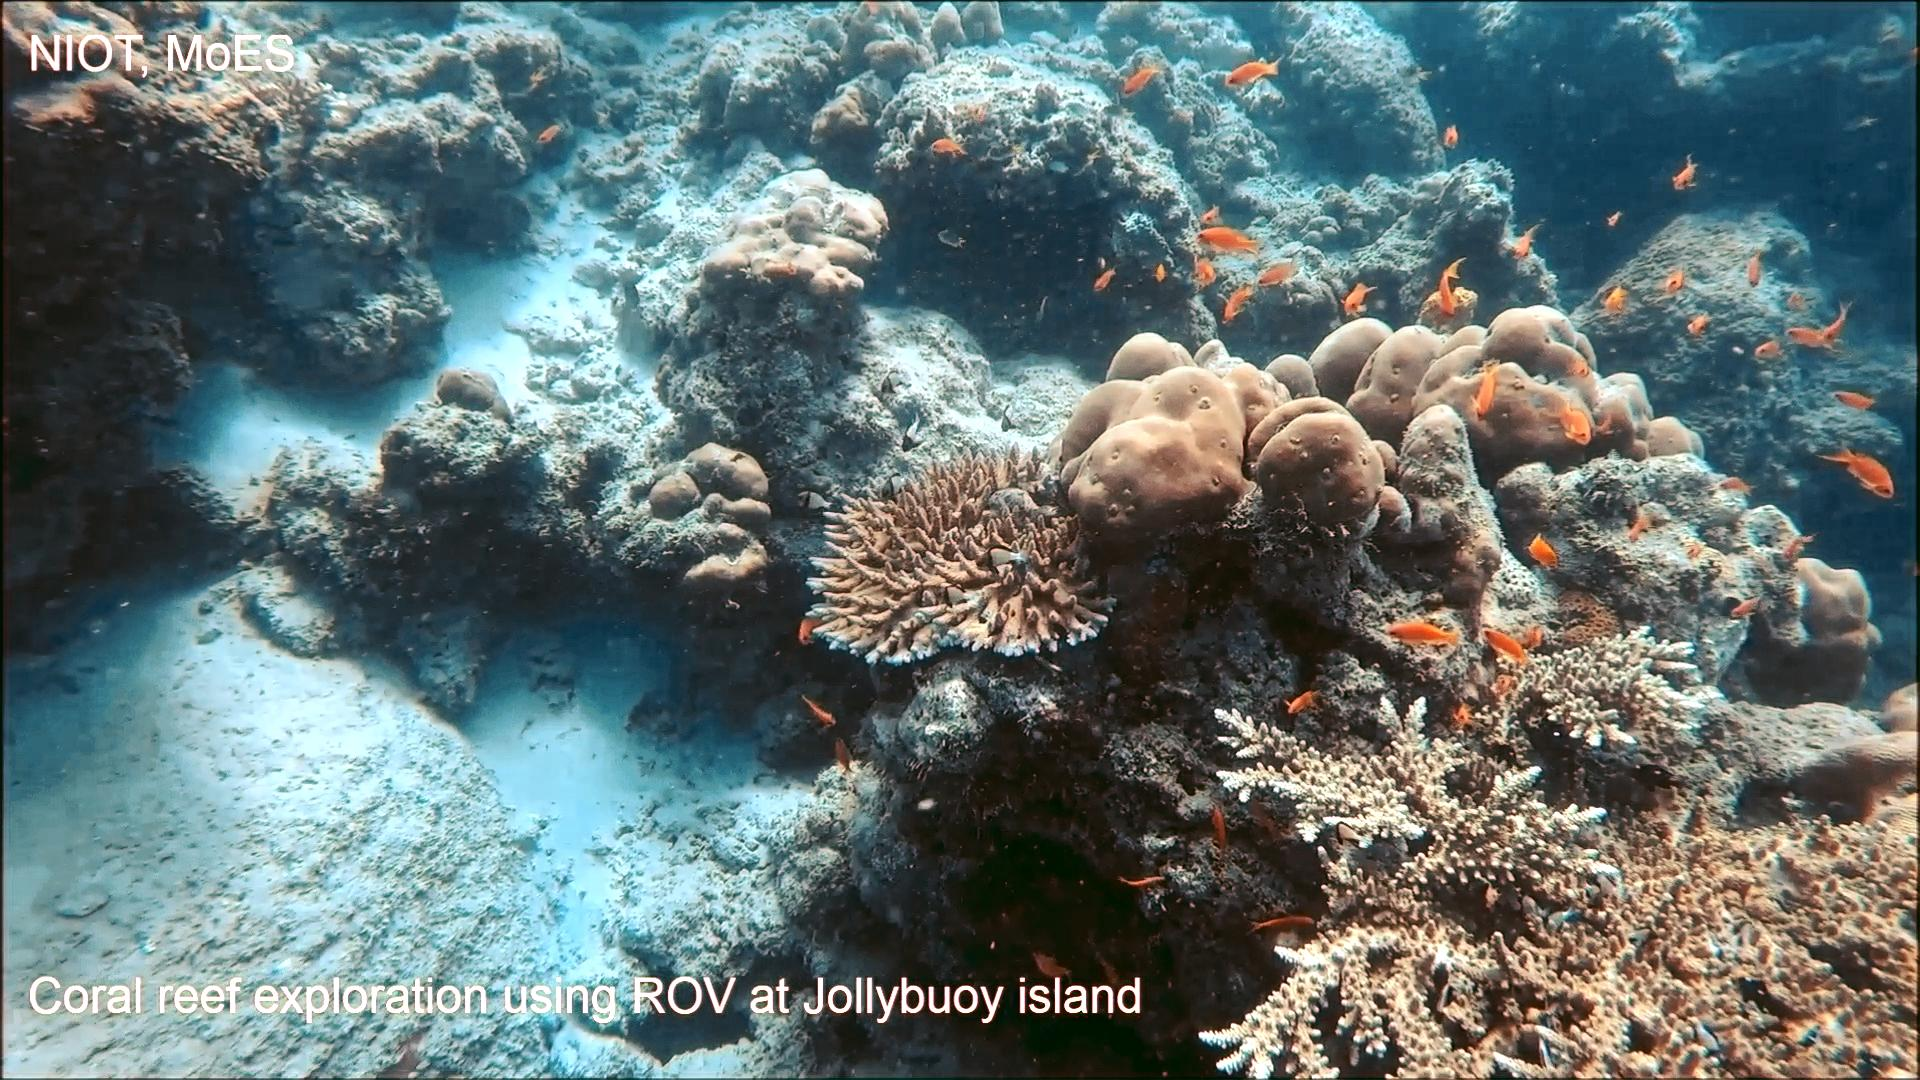Porites-Porites pukoensis: (1048, 324, 1396, 555), (1298, 298, 1704, 484)
